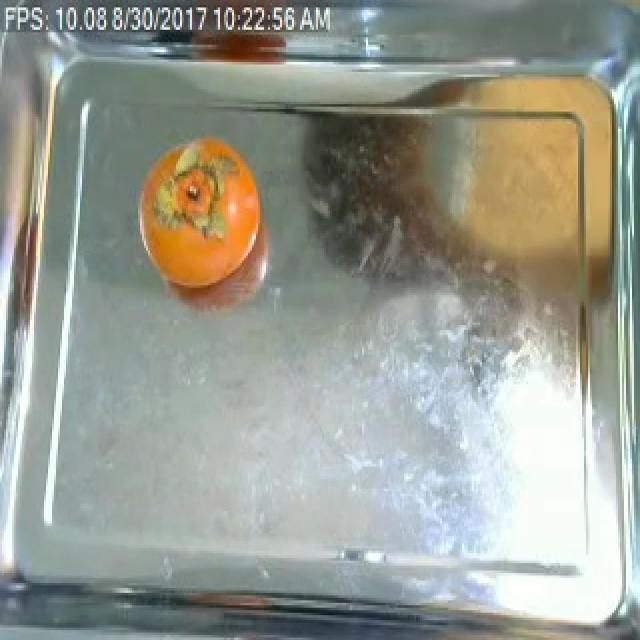Fruit: (444, 111, 592, 402), (128, 132, 266, 290)
